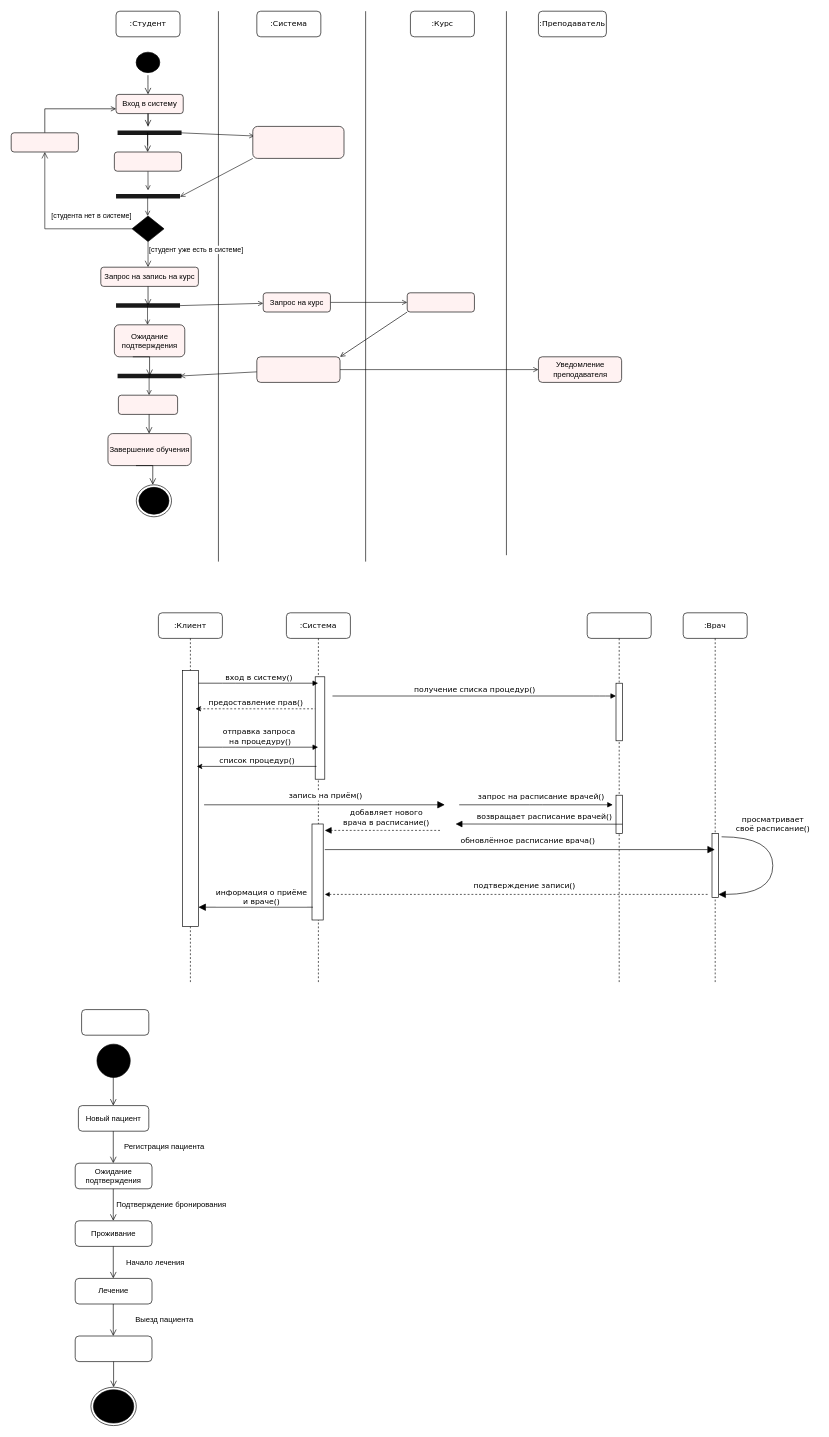
Image size: 829x1437. Some labels were removed from this diagram. Here are the shapes that lost their labels. From the top down, the centre of each, then its label:
point (44, 142): Регистрация
point (148, 161): Ожидание
point (298, 142): Проверить правильность введённых данных
point (440, 302): Проверка доступности курса
point (298, 369): Добавление студента на курс
point (148, 404): Прохождение обучения
point (619, 798): :База данных
point (115, 1022): Клиент
point (113, 1348): Выезд
